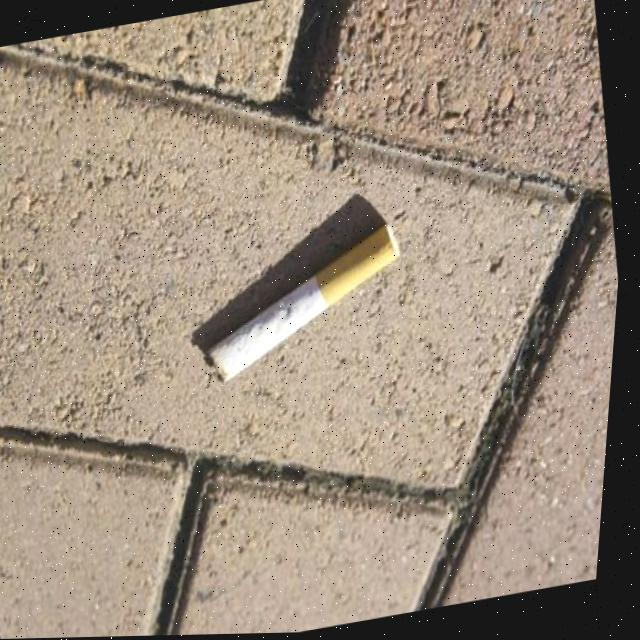cigarette: (206, 221, 396, 379)
